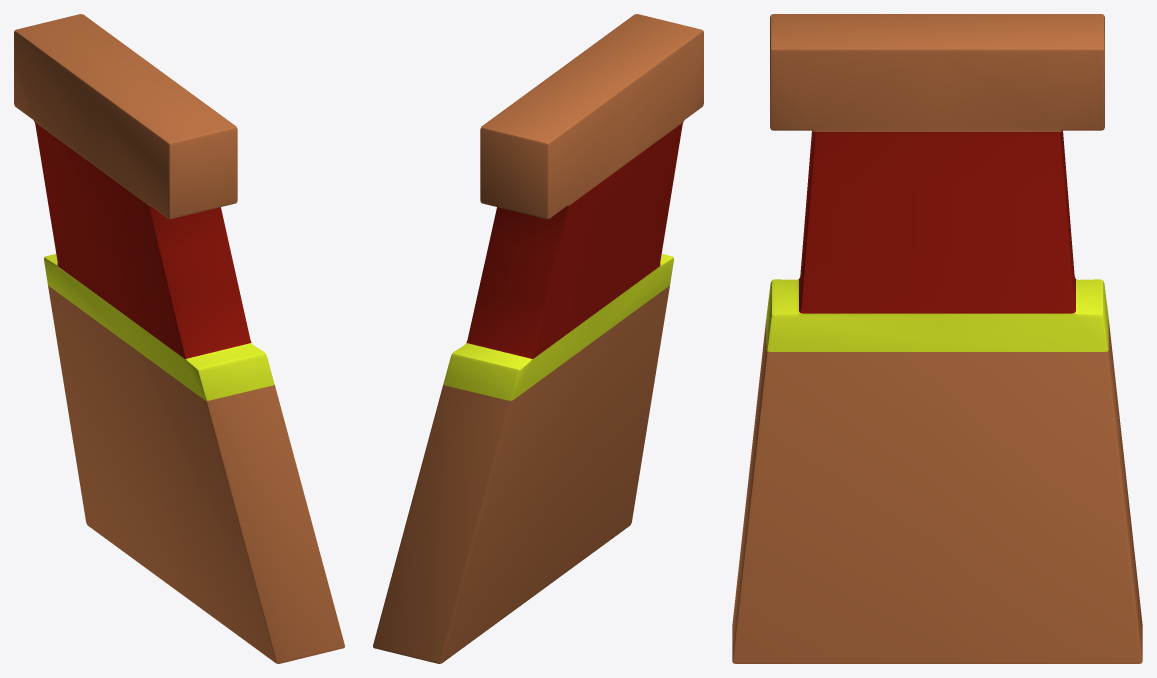
Rendered from Modular Walls Kit mappedstart.fbx.
The picture shows the model from 3 angles, left to right: view 1: azimuth 30°, elevation 25°; view 2: azimuth 150°, elevation 25°; view 3: azimuth 270°, elevation 25°; orthographic projection. The views are drawn at different scales.
Visible parts, largest first — view 1: (Mapped) exterior border edge 1; view 2: (Mapped) exterior border edge 1; view 3: (Mapped) exterior border edge 1.
Boxes of the visible parts, bbox=[...] form: (Mapped) exterior border edge 1: bbox=[14, 14, 344, 663]; (Mapped) exterior border edge 1: bbox=[373, 14, 703, 663]; (Mapped) exterior border edge 1: bbox=[732, 14, 1142, 663].
Size of the model in its own units: 100 by 319 by 209.
